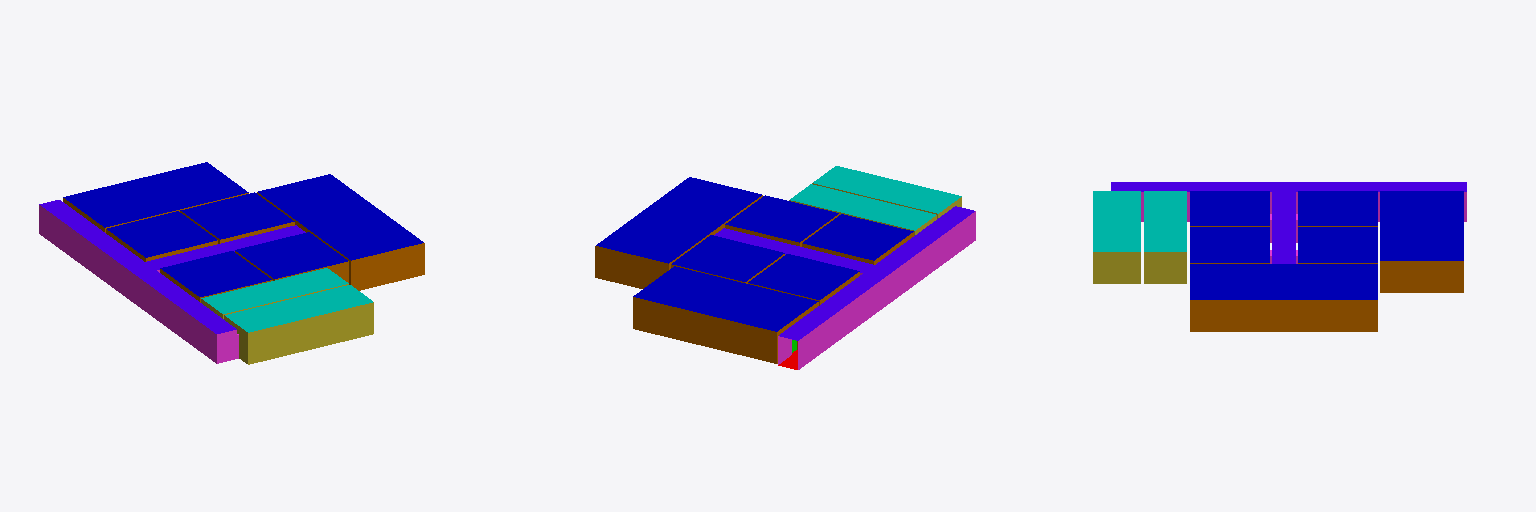
Rendered from Oficinas.obj.
3 renders of one model, left to right at view 1: azimuth 30°, elevation 25°; view 2: azimuth 150°, elevation 25°; view 3: azimuth 270°, elevation 25°, orthographic.
Parts seen in each view (by area): view 1: Plane.001; view 2: Plane.001; view 3: Plane.001.
Boxes of the visible parts, x1,y1,x2,y2 form: Plane.001: [39, 162, 424, 364]; Plane.001: [595, 166, 975, 369]; Plane.001: [1093, 182, 1466, 331].
Bounding box in the file's own units: 24.14 × 3 × 31.57.